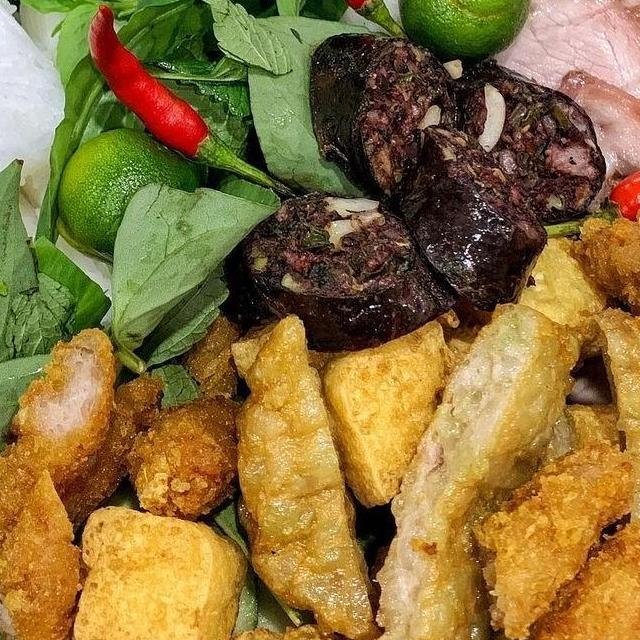bun: (285, 0, 640, 68), (586, 0, 640, 140)
bun dau: (0, 0, 640, 640)
cha com: (0, 355, 390, 590), (0, 0, 350, 243), (0, 215, 357, 387)
dau hu: (109, 311, 344, 463), (0, 68, 147, 256)
doi sun: (288, 212, 625, 618)
thit heo: (182, 497, 640, 640)
